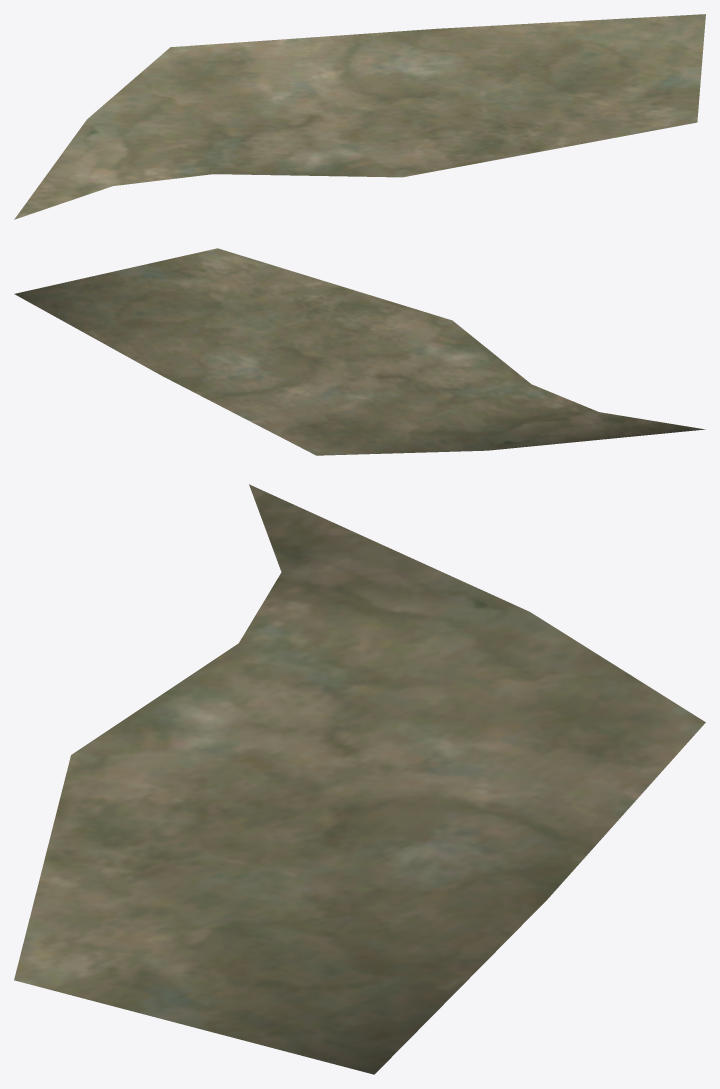
File: OVERHILL_A_01_LINE98.fbx
3 views of the same model, one above another, from view 1: azimuth 30°, elevation 25°; view 2: azimuth 150°, elevation 25°; view 3: azimuth 270°, elevation 25° (orthographic). The views are drawn at different scales.
Parts seen in each view (by area): view 1: OVERHILL_A_01_LINE98; view 2: OVERHILL_A_01_LINE98; view 3: OVERHILL_A_01_LINE98.
Part boxes in pixels (box(x1,y1,x2,y2)): OVERHILL_A_01_LINE98: box(14, 14, 705, 219); OVERHILL_A_01_LINE98: box(14, 248, 705, 455); OVERHILL_A_01_LINE98: box(14, 484, 705, 1074).
Bounding box in the file's own units: 22111 × 8.15 × 10950.
1 material, 1 textured.
